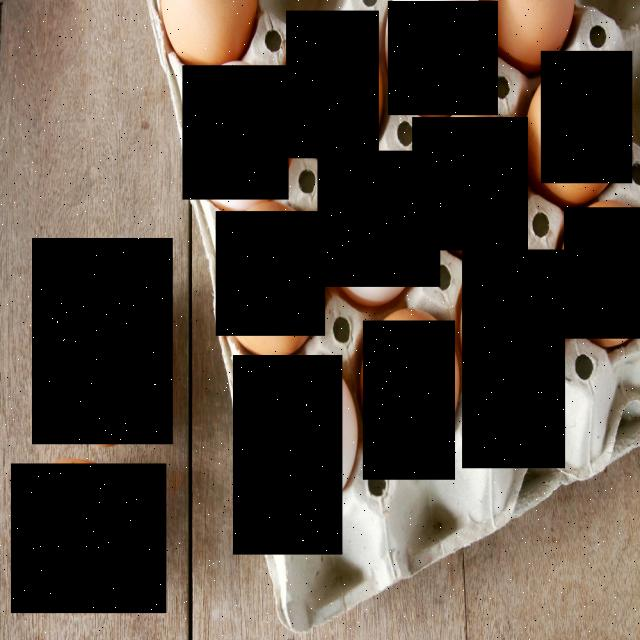Egg: (32, 239, 173, 445), (11, 464, 166, 613), (462, 250, 566, 468), (233, 355, 343, 555), (318, 151, 440, 287), (412, 118, 528, 251), (363, 321, 455, 480), (183, 66, 289, 201), (286, 11, 379, 159), (216, 211, 325, 336), (388, 2, 498, 116), (541, 52, 633, 184), (564, 207, 640, 339)
